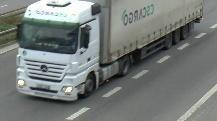truck: (15, 0, 204, 101)
